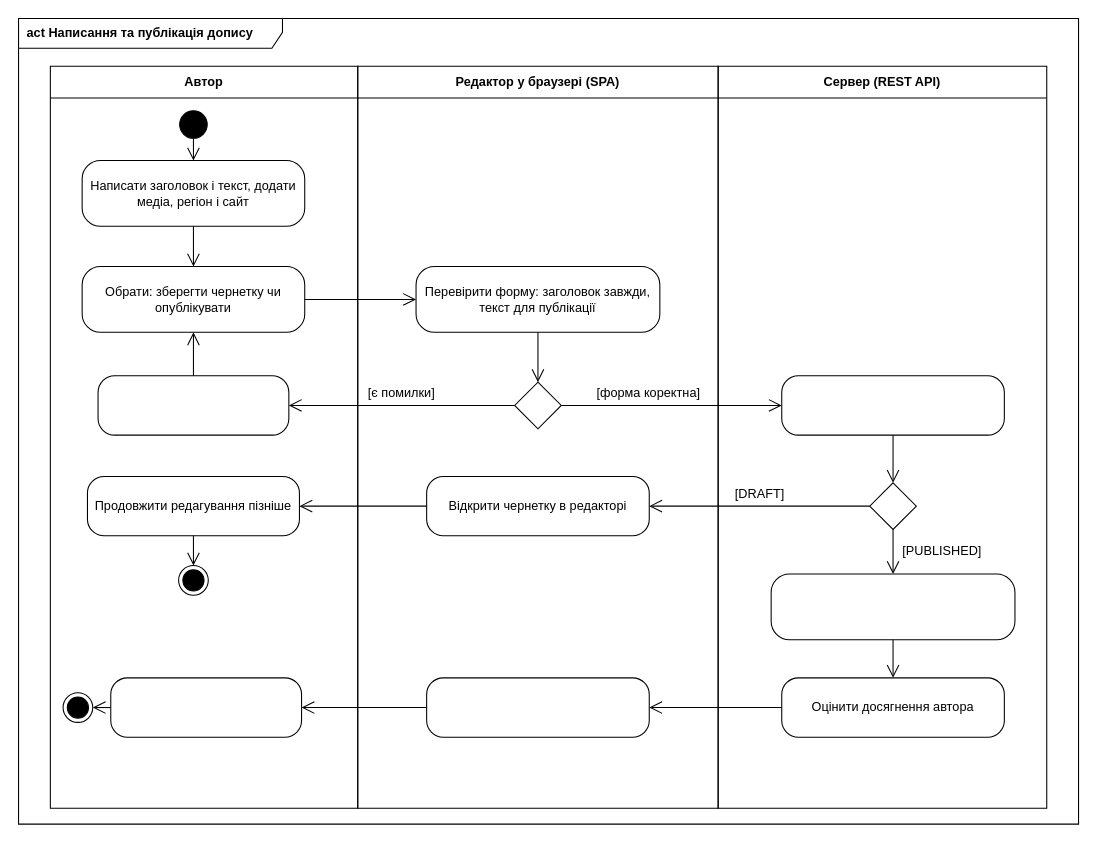
Some shapes in this 1097 by 843 pixel diagram are drawn without their labels. Each missing label, with the centre of its shape:
Виправити помилки: the point at 193,405
Встановити час першої публікації, надіслати подію PostPublished: the point at 892,606
Відкрити сторінку допису: the point at 537,707
Побачити опублікований допис: the point at 206,707
Прив’язати медіа й зберегти допис: the point at 892,405
